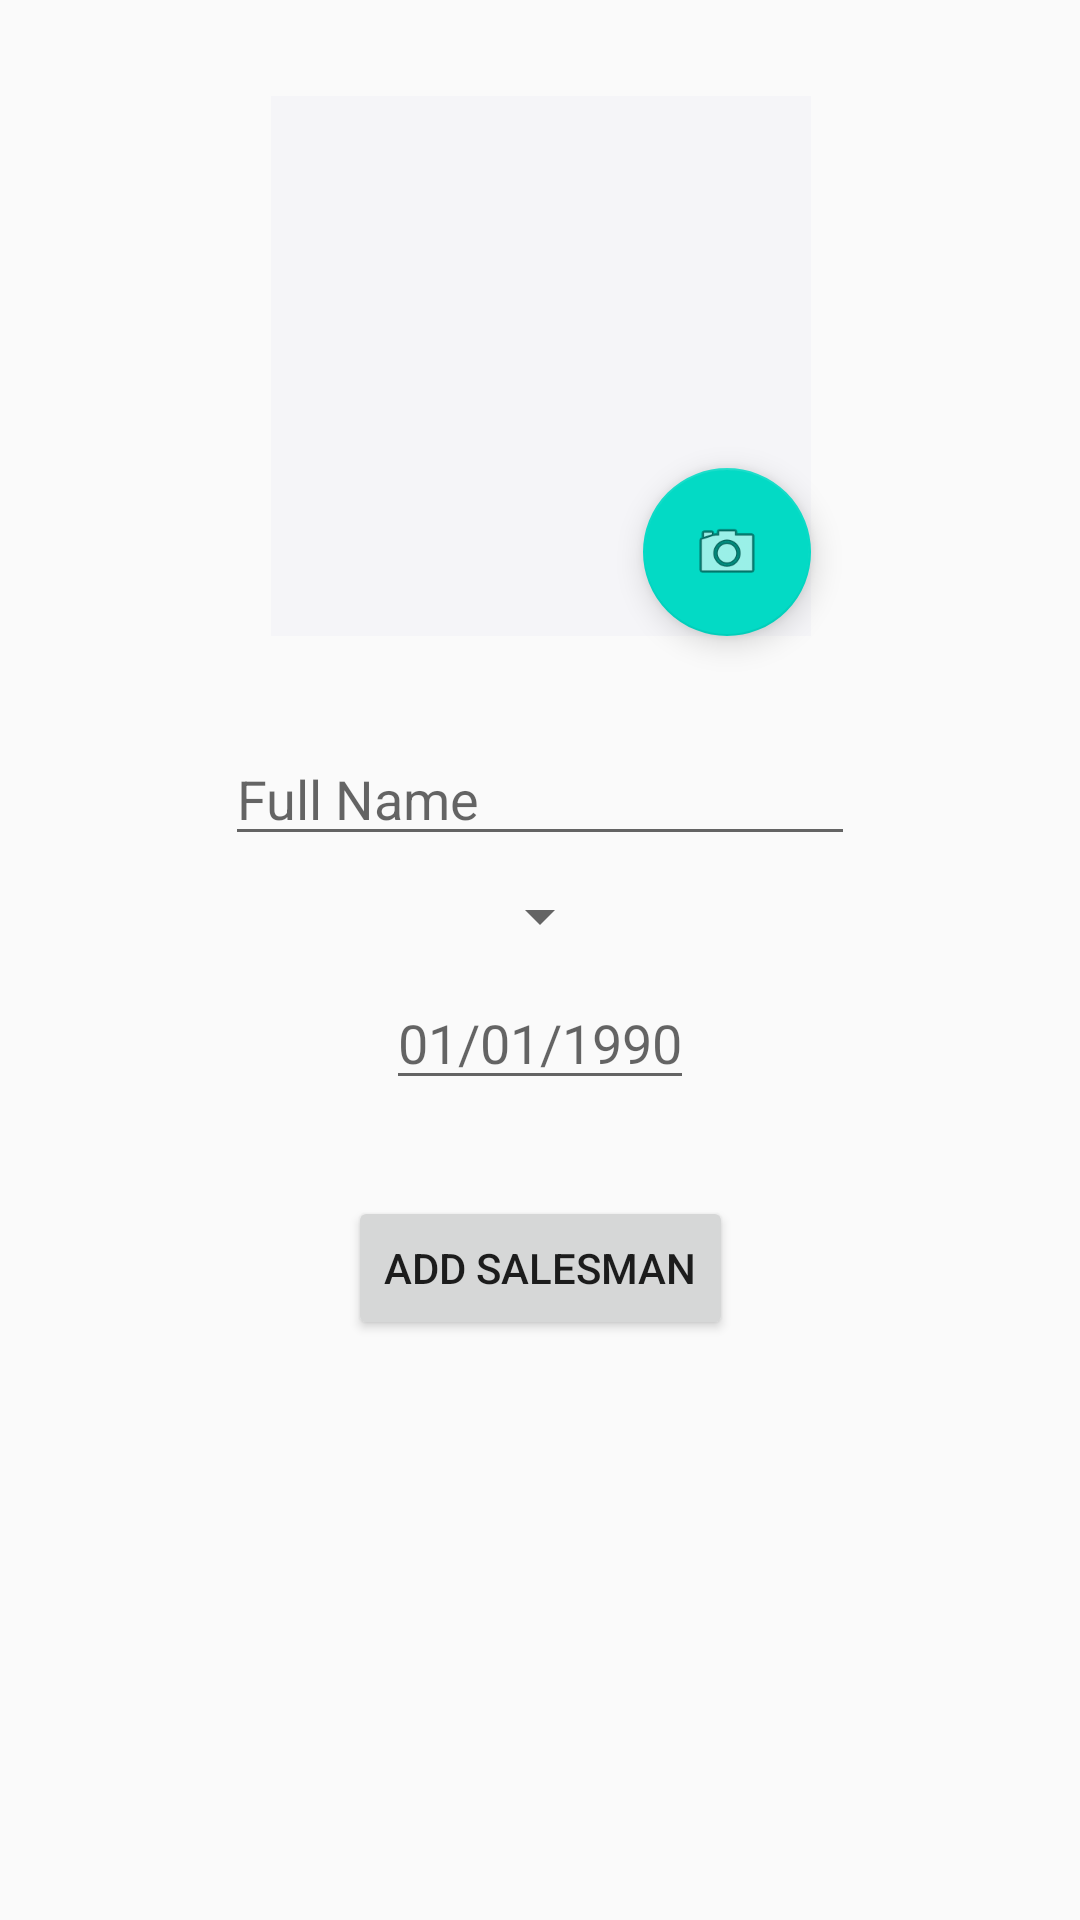

Where icons sit on this 1080*1920 app screen, as (x1, y1, x2, y2):
camera: (643, 468, 811, 636)
